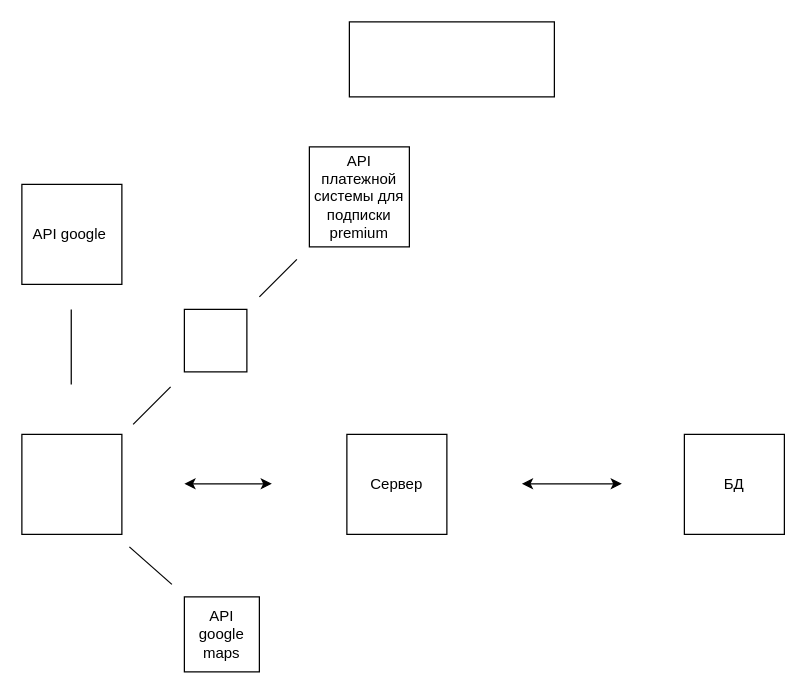
This 806x694 diagram has some shape labels left out. The centre of each missing label's shape, as x and y in pixels:
"Клиент" goes at [71,483].
"Клиент серверная архитектура приложения YouTube" goes at [451,59].
"личный кабинет" goes at [215,340].
